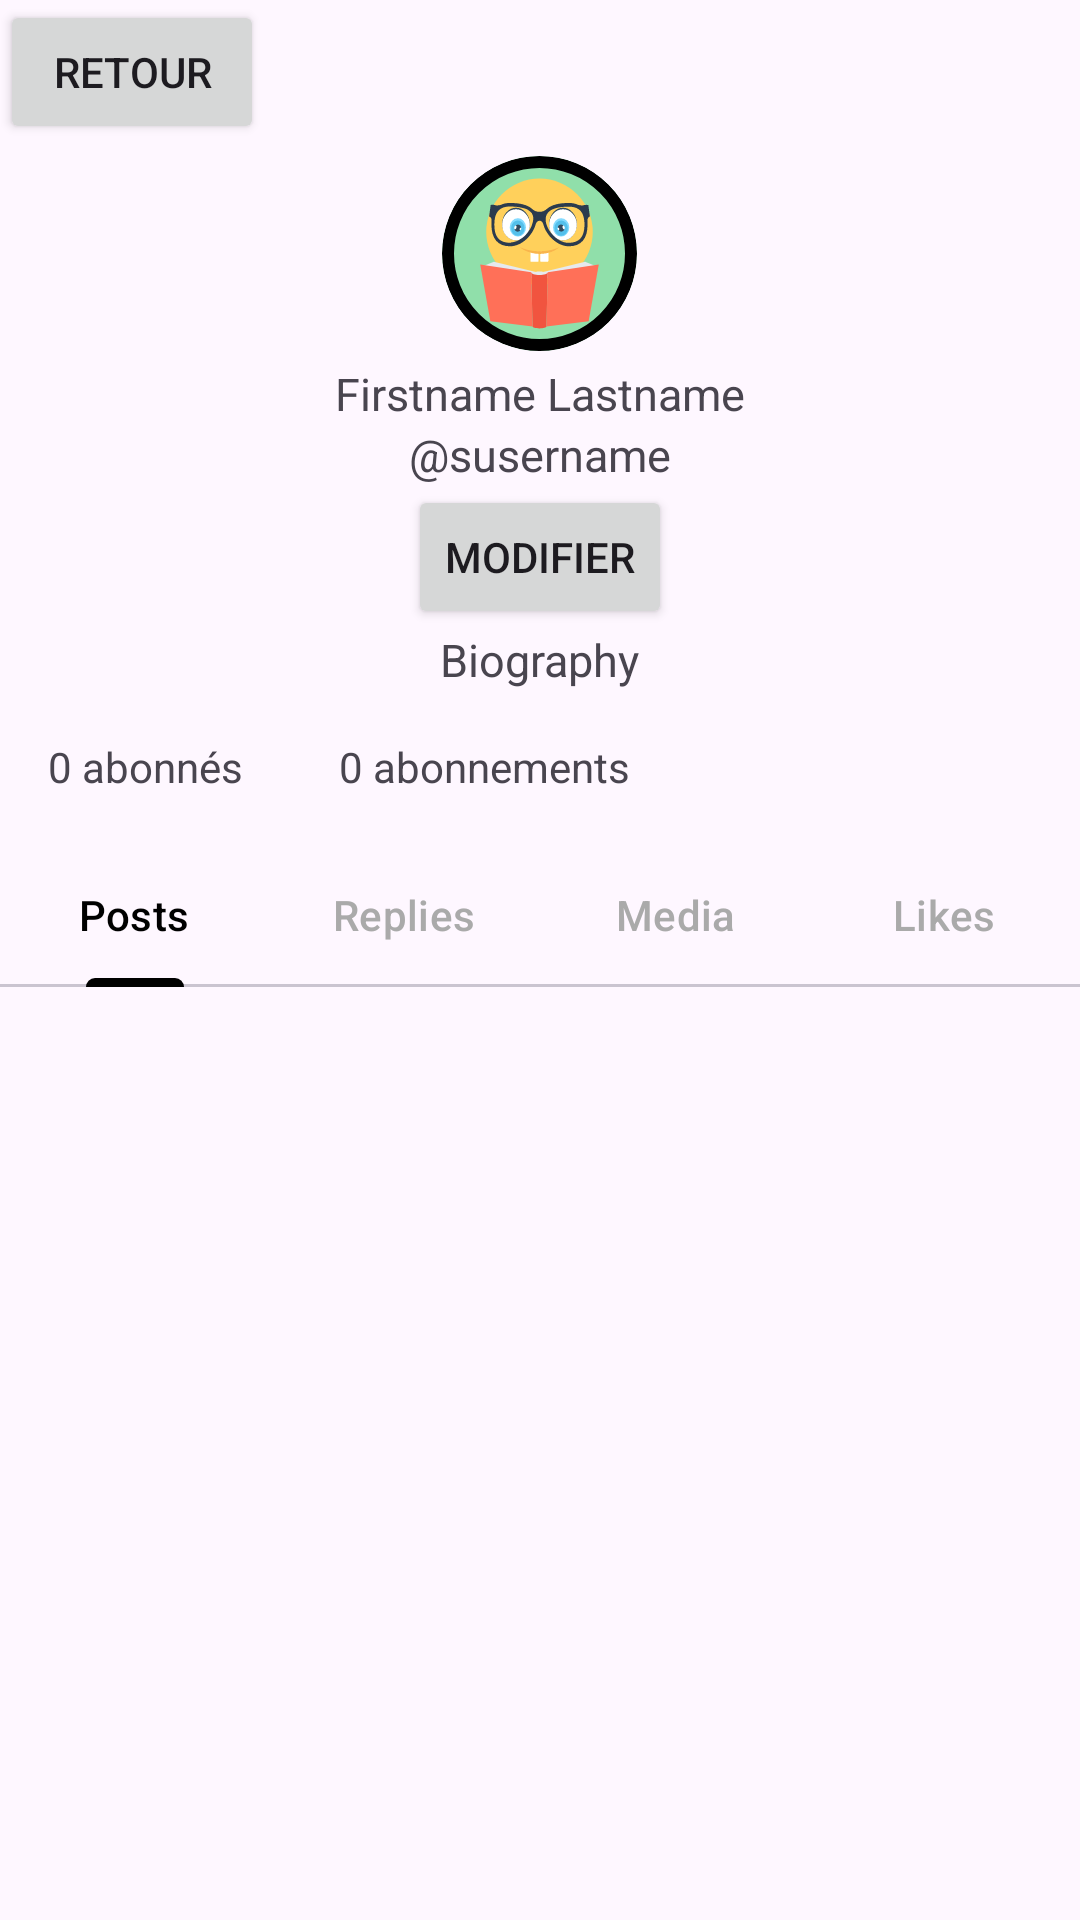

Where icons sit on this 1080*1920 app screen, as Rect(x1, y1, x2, y2):
Profile picture: Rect(442, 156, 637, 351)
